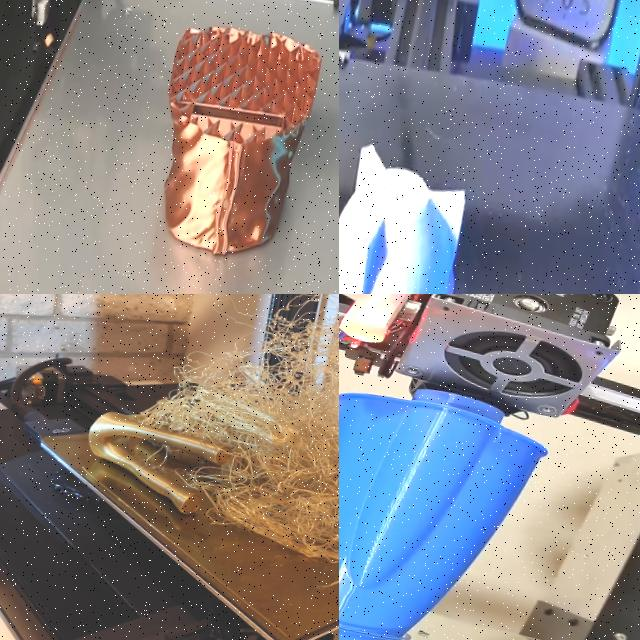spaghetti: (102, 294, 339, 640)
